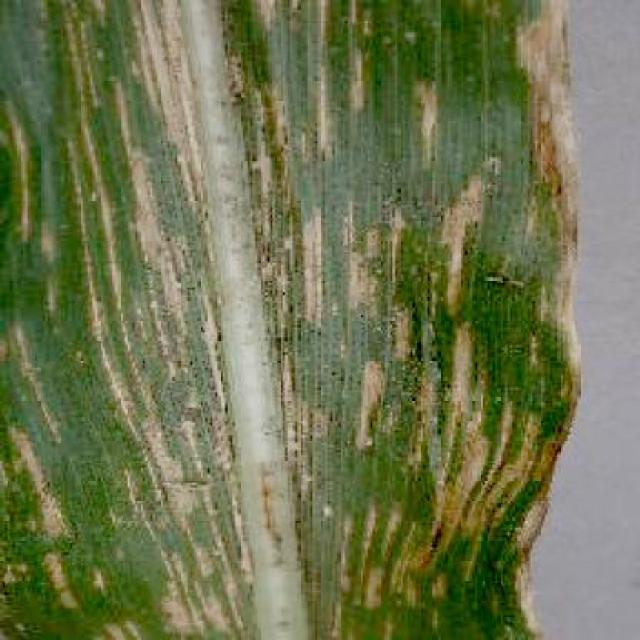Corn_Grey_Leaf_Spot: (0, 0, 582, 640)
